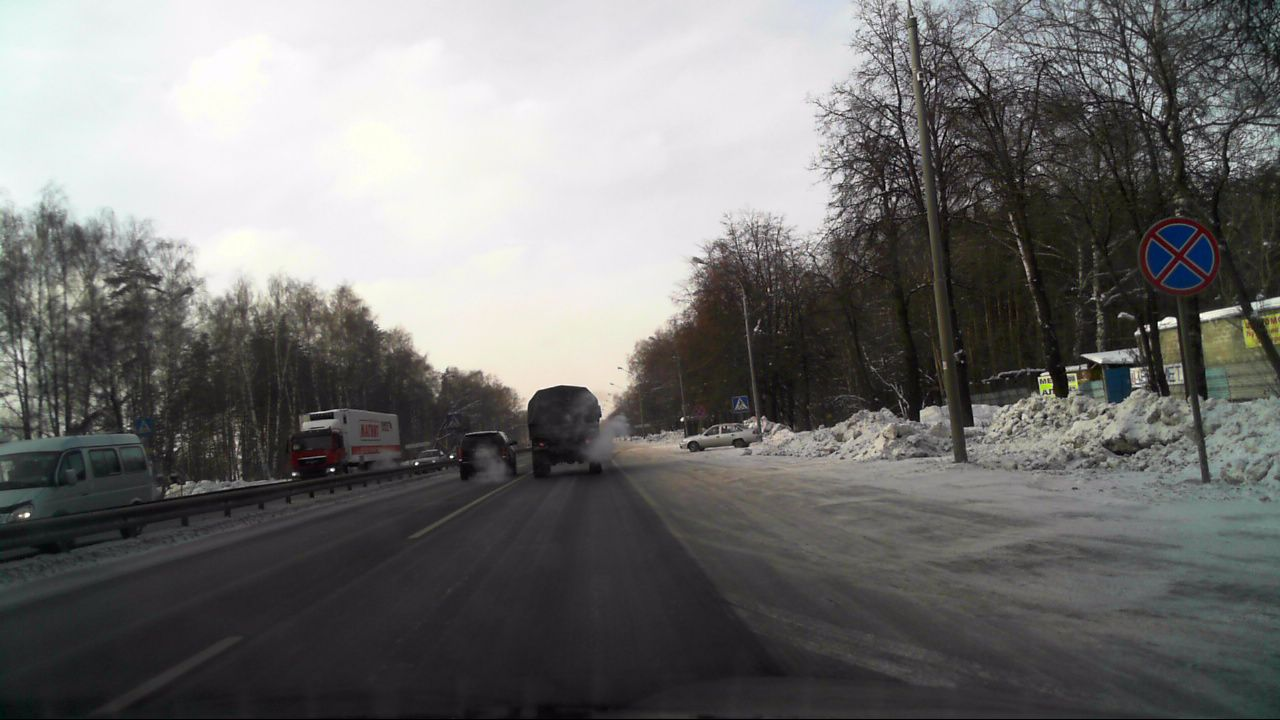No Parking: (1140, 216, 1220, 297)
